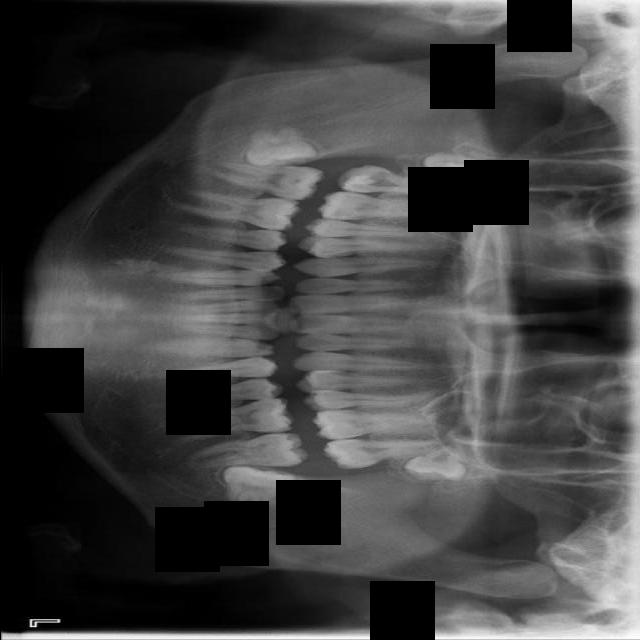3M ESPE Implant: (421, 150, 481, 188)
73: (53, 584, 78, 585)
BioHorizons Implant: (322, 439, 455, 469)
BioLife Implant: (401, 444, 466, 484)
Biomet 3i Implant: (217, 462, 297, 518)
Blue Sky Bio Implant: (199, 432, 308, 469)
Caries: (336, 164, 477, 196)
Implant: (211, 161, 325, 203)
Keystone Dental Implant: (245, 128, 316, 171)
